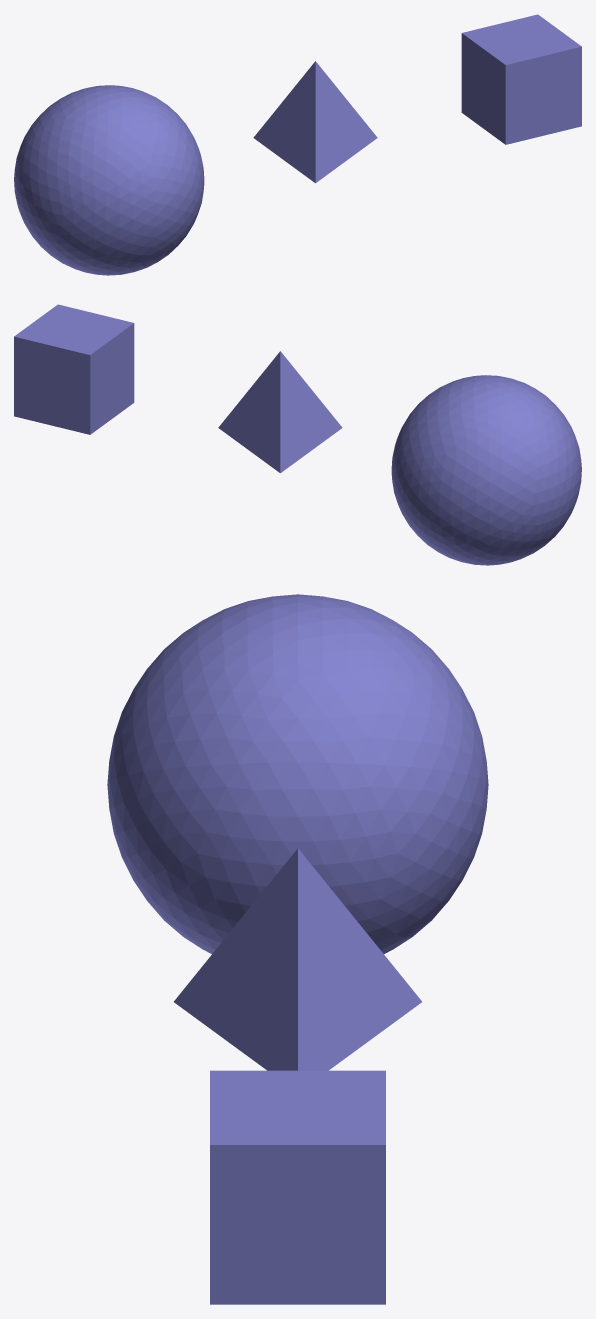
File: joint_mesh.obj
The picture shows the model from 3 angles, top to bottom: view 1: azimuth 30°, elevation 25°; view 2: azimuth 150°, elevation 25°; view 3: azimuth 270°, elevation 25°; orthographic projection. The views are drawn at different scales.
Size of the model in its own units: 6.46 by 2 by 2.
1 material, 1 textured.
